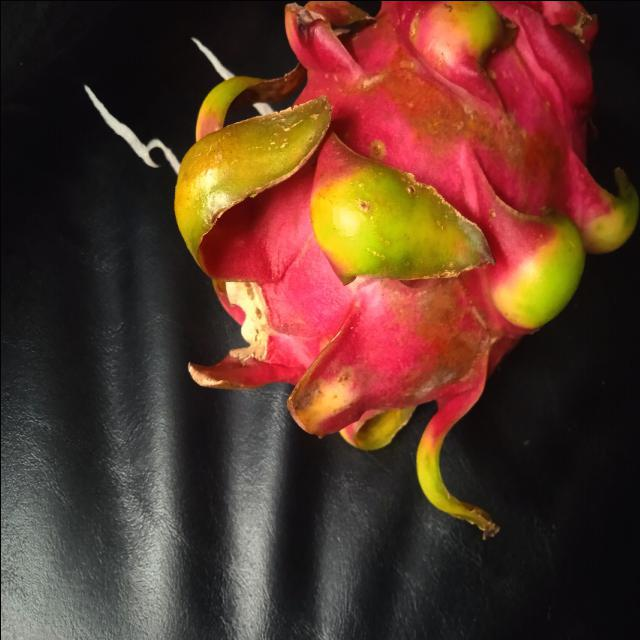do: (167, 1, 639, 540)
